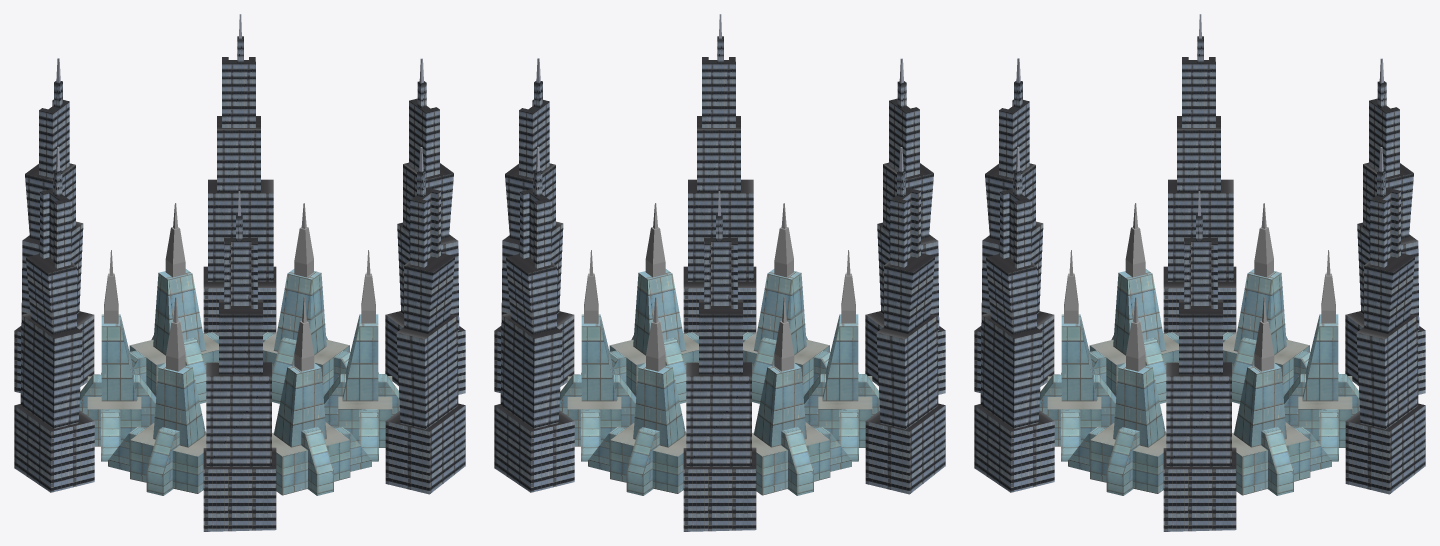
The model's file is town_part2.fbx.
The picture shows the model from 3 angles, left to right: view 1: azimuth 30°, elevation 25°; view 2: azimuth 150°, elevation 25°; view 3: azimuth 270°, elevation 25°; orthographic projection.
Parts seen in each view (by area): view 1: town_part2; view 2: town_part2; view 3: town_part2.
Boxes of the visible parts, x1,y1,x2,y2 form: town_part2: [14, 14, 465, 531]; town_part2: [494, 14, 945, 531]; town_part2: [974, 14, 1425, 531].
Size of the model in its own units: 4659 by 3522 by 4386.
